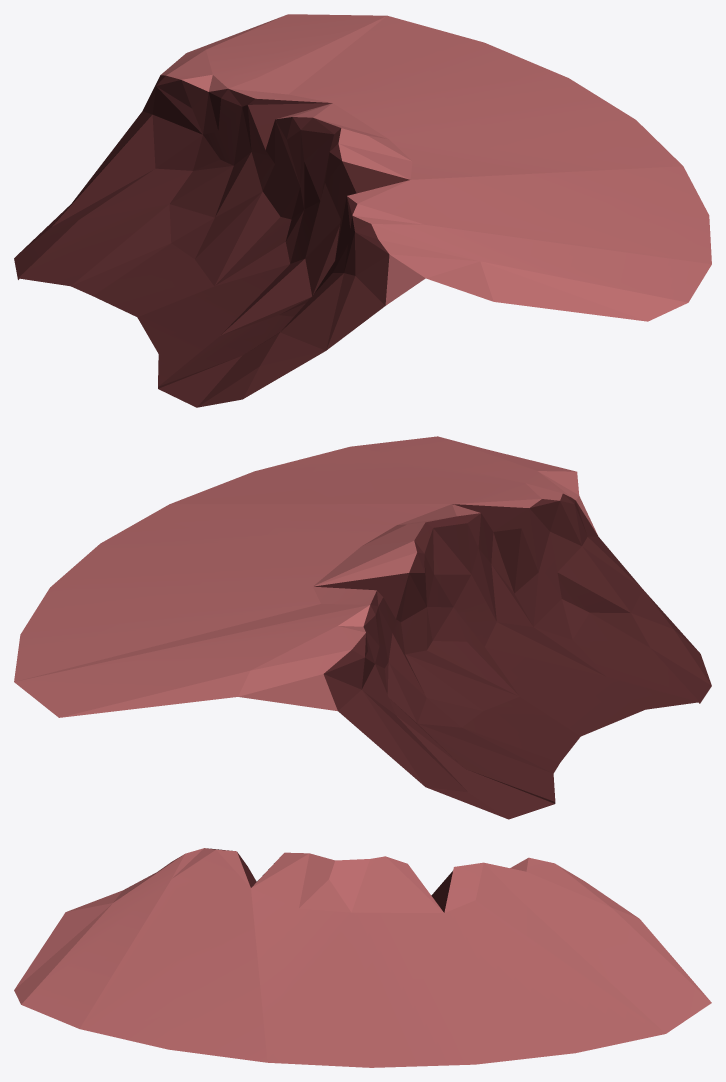
File: entity752618.glb
3 views of the same model, one above another, from view 1: azimuth 30°, elevation 25°; view 2: azimuth 150°, elevation 25°; view 3: azimuth 270°, elevation 25° (orthographic). The views are drawn at different scales.
Parts seen in each view (by area): view 1: node_SM_Env_Crater_Edge_04 (1); view 2: node_SM_Env_Crater_Edge_04 (1); view 3: node_SM_Env_Crater_Edge_04 (1).
Boxes of the visible parts, box(x1,y1,x2,y2) form: node_SM_Env_Crater_Edge_04 (1): box(14, 14, 711, 407); node_SM_Env_Crater_Edge_04 (1): box(14, 436, 711, 819); node_SM_Env_Crater_Edge_04 (1): box(14, 848, 711, 1067).
Bounding box in the file's own units: 55.27 × 16.43 × 69.75.
1 material, 1 textured.
